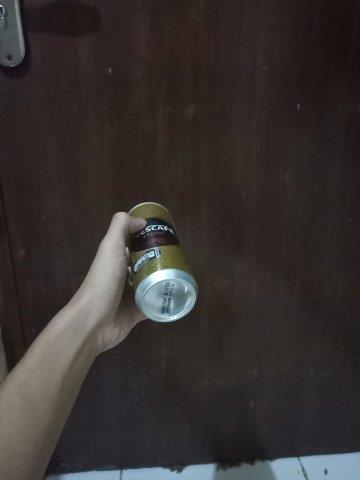kaleng: (126, 201, 198, 323)
